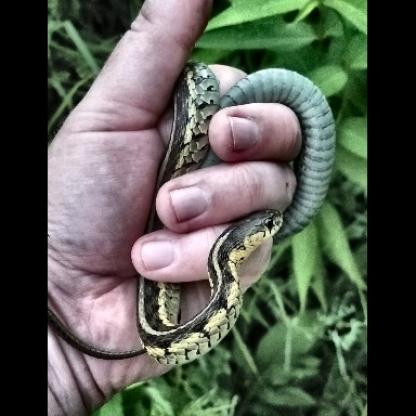Snake: (111, 62, 334, 365)
